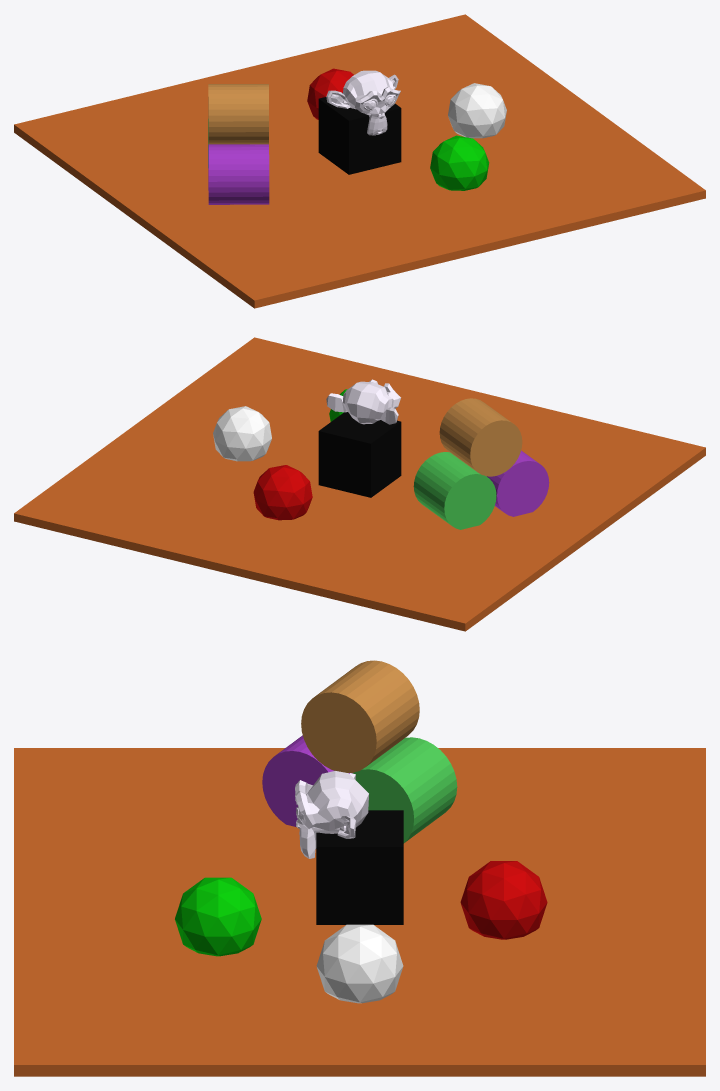
The picture shows the model from 3 angles, top to bottom: view 1: azimuth 30°, elevation 25°; view 2: azimuth 150°, elevation 25°; view 3: azimuth 270°, elevation 25°; orthographic projection. The views are drawn at different scales.
Visible parts, largest first — view 1: Cube, Cube.001, Cylinder.002, Cylinder.001, Suzanne, Icosphere, Icosphere.001, Icosphere.002; view 2: Cube, Cube.001, Cylinder.001, Cylinder, Icosphere, Icosphere.002, Cylinder.002, Suzanne; view 3: Cube, Cylinder.001, Cube.001, Cylinder, Icosphere, Icosphere.001, Icosphere.002, Suzanne, Cylinder.002.
Part boxes in pixels (x1,y1,x2,y2): Cube: [14, 14, 705, 308]; Cube.001: [318, 93, 401, 174]; Cylinder.002: [208, 144, 269, 204]; Cylinder.001: [208, 84, 268, 144]; Suzanne: [326, 70, 400, 135]; Icosphere: [448, 83, 506, 138]; Icosphere.001: [430, 135, 489, 190]; Icosphere.002: [307, 68, 353, 119]; Cube: [14, 337, 705, 631]; Cube.001: [318, 412, 401, 497]; Cylinder.001: [439, 398, 522, 476]; Cylinder: [413, 452, 496, 529]; Icosphere: [213, 406, 271, 461]; Icosphere.002: [253, 465, 312, 520]; Cylinder.002: [487, 450, 549, 516]; Suzanne: [326, 379, 400, 424]; Cube: [14, 748, 705, 1076]; Cylinder.001: [301, 660, 419, 772]; Cube.001: [316, 810, 403, 924]; Cylinder: [352, 737, 457, 843]; Icosphere: [316, 924, 403, 1003]; Icosphere.001: [175, 877, 261, 956]; Icosphere.002: [460, 861, 547, 939]; Suzanne: [295, 771, 368, 858]; Cylinder.002: [262, 735, 352, 826].
Bounding box in the file's own units: 17.23 × 4.07 × 15.9.
